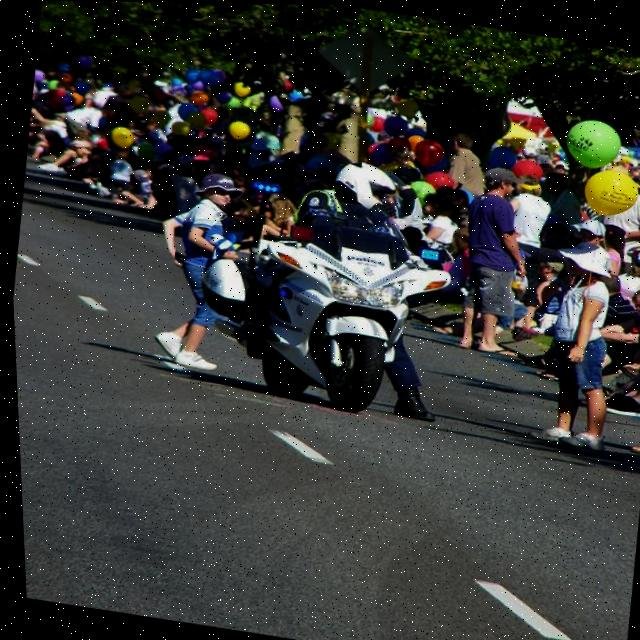motorcycle: (176, 204, 470, 431)
